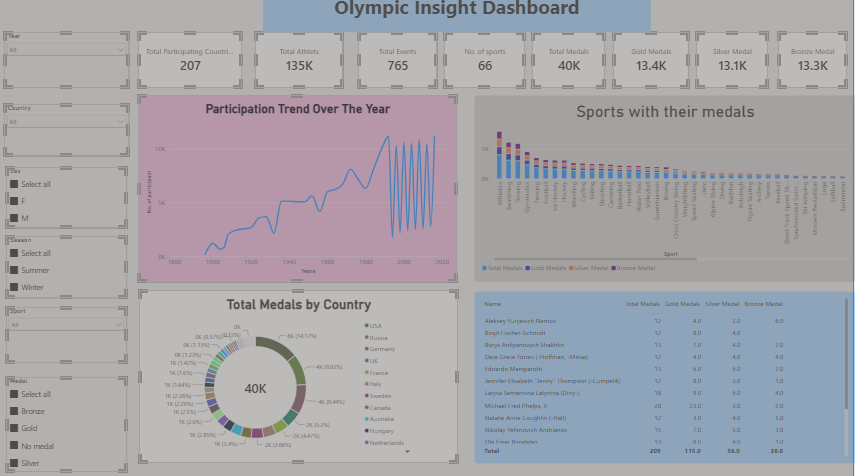

Layout of this report page (visuals, bound fields, positions):
{"tool":"powerbi","page":{"name":"Page 1","canvas":[1920,1080],"ordinal":0},"visuals":[{"type":"cardVisual","fields":{"Data":["athlete_events.Total Athlets"]},"box":[584.4,86.7,195.6,124.4],"z":0},{"type":"cardVisual","fields":{"Data":["athlete_events.Total Participating Countries"]},"box":[324.4,86.7,231.1,124.4],"z":1000},{"type":"cardVisual","fields":{"Data":["athlete_events.Total Medals"]},"box":[1200,86.7,162.2,124.4],"z":2000},{"type":"cardVisual","fields":{"Data":["athlete_events.Total Events"]},"box":[813.3,86.7,175.6,124.4],"z":3000},{"type":"cardVisual","fields":{"Data":["athlete_events.No. of sports"]},"box":[1004.4,86.7,180,124.4],"z":4000},{"type":"cardVisual","fields":{"Data":["athlete_events.Gold Medals"]},"box":[1380,86.7,168.9,124.4],"z":5000},{"type":"cardVisual","fields":{"Data":["athlete_events.Silver Medal"]},"box":[1564.4,86.7,160,124.4],"z":6000},{"type":"cardVisual","fields":{"Data":["athlete_events.Bronze Medal"]},"box":[1746.7,86.7,153.3,124.4],"z":7000},{"type":"textbox","box":[0,490.5,231,171],"z":8000},{"type":"textbox","box":[0,716.5,231,171],"z":9000},{"type":"textbox","box":[0,246.7,231.1,86.7],"z":10000},{"type":"textbox","box":[353,247,231,171],"z":11000},{"type":"textbox","box":[602.2,0,862.2,86.7],"z":12000},{"type":"slicer","fields":{"Values":["athlete_events.Year"]},"box":[26.7,86.7,277.8,124.4],"z":13000},{"type":"slicer","fields":{"Values":["noc_regions.Country"]},"box":[26.7,246.7,277.8,115.6],"z":14000},{"type":"slicer","fields":{"Values":["athlete_events.Sex"]},"box":[31.1,386.7,268.9,135.6],"z":15000},{"type":"slicer","fields":{"Values":["athlete_events.Season"]},"box":[31.1,540,268.9,137.8],"z":16000},{"type":"slicer","fields":{"Values":["athlete_events.Sport"]},"box":[31.1,697.8,268.9,124.4],"z":17000},{"type":"slicer","fields":{"Values":["athlete_events.Medal"]},"box":[31.1,853.3,268.9,211.1],"z":18000},{"type":"lineChart","title":"Participation Trend Over The Year","fields":{"Category":["athlete_events.Year"],"Y":["Count(athlete_events.Name)"]},"box":[324.4,226.7,708.9,415.6],"z":19000},{"type":"columnChart","title":"Sports with their medals","fields":{"Category":["athlete_events.Sport"],"Y":["athlete_events.Total Medals","athlete_events.Gold Medals","athlete_events.Silver Medal","athlete_events.Bronze Medal"]},"box":[1071.1,226.7,848.9,415.6],"z":20000},{"type":"donutChart","fields":{"Category":["noc_regions.Country"],"Y":["athlete_events.Total Medals"]},"box":[326.7,660,708.9,384.4],"z":20001},{"type":"tableEx","fields":{"Values":["athlete_events.Name","athlete_events.Total Medals","athlete_events.Gold Medals","athlete_events.Silver Medal","athlete_events.Bronze Medal"]},"box":[1071,662,849,384],"z":20002}]}

Visuals, with their boxes in screenshot pixels (x1, y1, x2, y2), scaled from the page's 1920x1080 canvas onto the 855x476 screenshot:
cardVisual - athlete_events.Total Athlets: box=[260, 38, 347, 93]
cardVisual - athlete_events.Total Participating Countries: box=[144, 38, 247, 93]
cardVisual - athlete_events.Total Medals: box=[534, 38, 607, 93]
cardVisual - athlete_events.Total Events: box=[362, 38, 440, 93]
cardVisual - athlete_events.No. of sports: box=[447, 38, 527, 93]
cardVisual - athlete_events.Gold Medals: box=[615, 38, 690, 93]
cardVisual - athlete_events.Silver Medal: box=[697, 38, 768, 93]
cardVisual - athlete_events.Bronze Medal: box=[778, 38, 846, 93]
textbox: box=[0, 216, 103, 292]
textbox: box=[0, 316, 103, 391]
textbox: box=[0, 109, 103, 147]
textbox: box=[157, 109, 260, 184]
textbox: box=[268, 0, 652, 38]
slicer - athlete_events.Year: box=[12, 38, 136, 93]
slicer - noc_regions.Country: box=[12, 109, 136, 160]
slicer - athlete_events.Sex: box=[14, 170, 134, 230]
slicer - athlete_events.Season: box=[14, 238, 134, 299]
slicer - athlete_events.Sport: box=[14, 308, 134, 362]
slicer - athlete_events.Medal: box=[14, 376, 134, 469]
"Participation Trend Over The Year" lineChart: box=[144, 100, 460, 283]
"Sports with their medals" columnChart: box=[477, 100, 854, 283]
donutChart - noc_regions.Country x athlete_events.Total Medals: box=[145, 291, 461, 460]
tableEx - athlete_events.Name x athlete_events.Total Medals: box=[477, 292, 854, 461]
